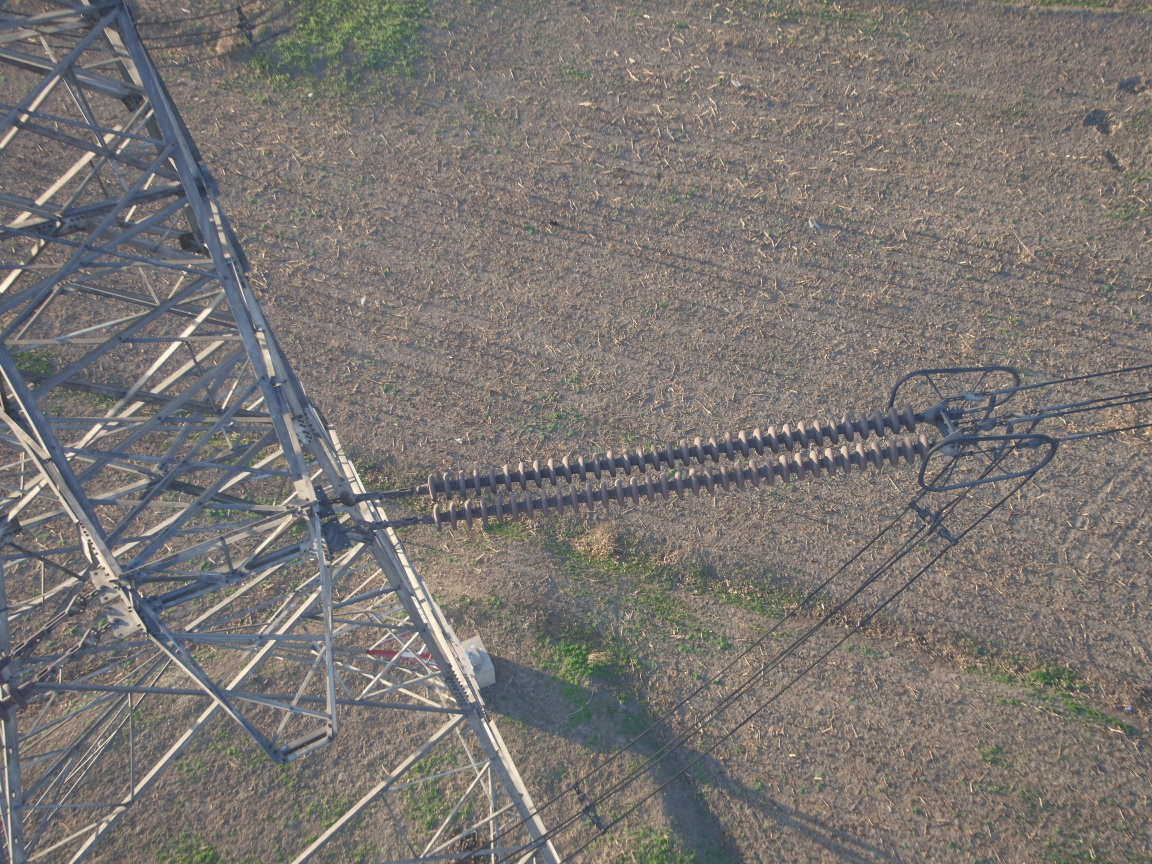insulator: (396, 400, 942, 528)
